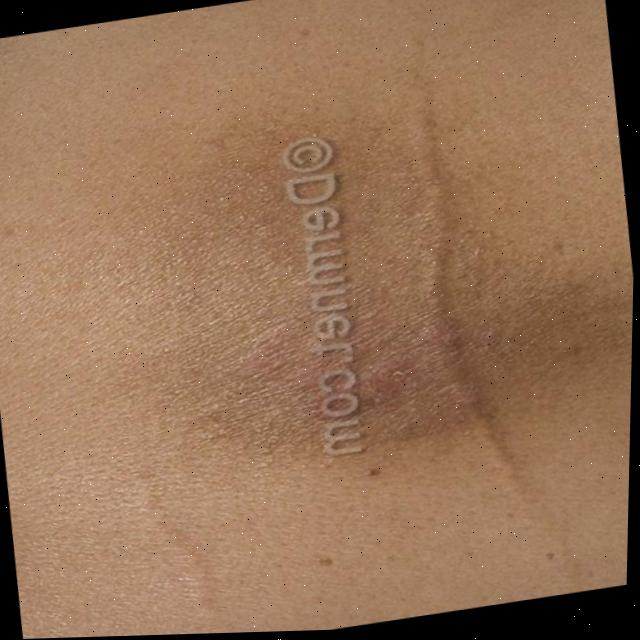Eczema: (131, 93, 608, 473)
